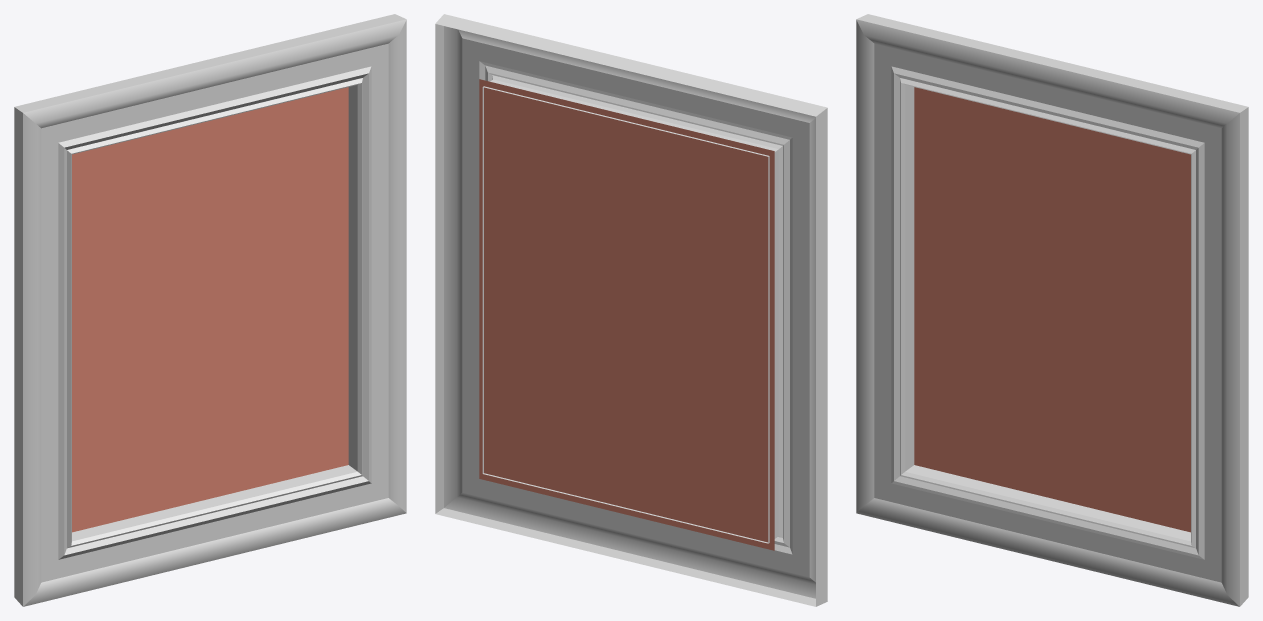
File: SM_Props_Decor_15.fbx
3 renders of one model, left to right at view 1: azimuth 30°, elevation 25°; view 2: azimuth 150°, elevation 25°; view 3: azimuth 330°, elevation 25°, orthographic.
Parts seen in each view (by area): view 1: SM_Props_Decor_15; view 2: SM_Props_Decor_15; view 3: SM_Props_Decor_15.
Part boxes in pixels (bbox=[...]): SM_Props_Decor_15: bbox=[14, 14, 406, 606]; SM_Props_Decor_15: bbox=[435, 14, 827, 606]; SM_Props_Decor_15: bbox=[856, 14, 1248, 606].
Size of the model in its own units: 119 by 147 by 6.88.
